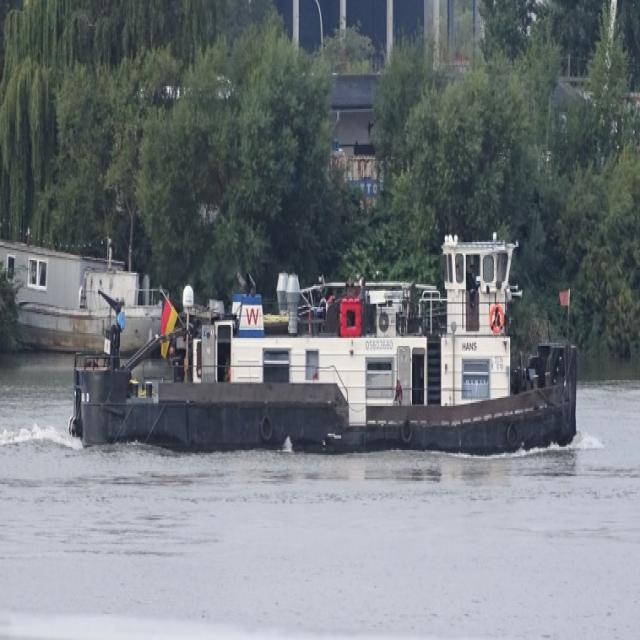tugboat: (69, 227, 588, 492)
